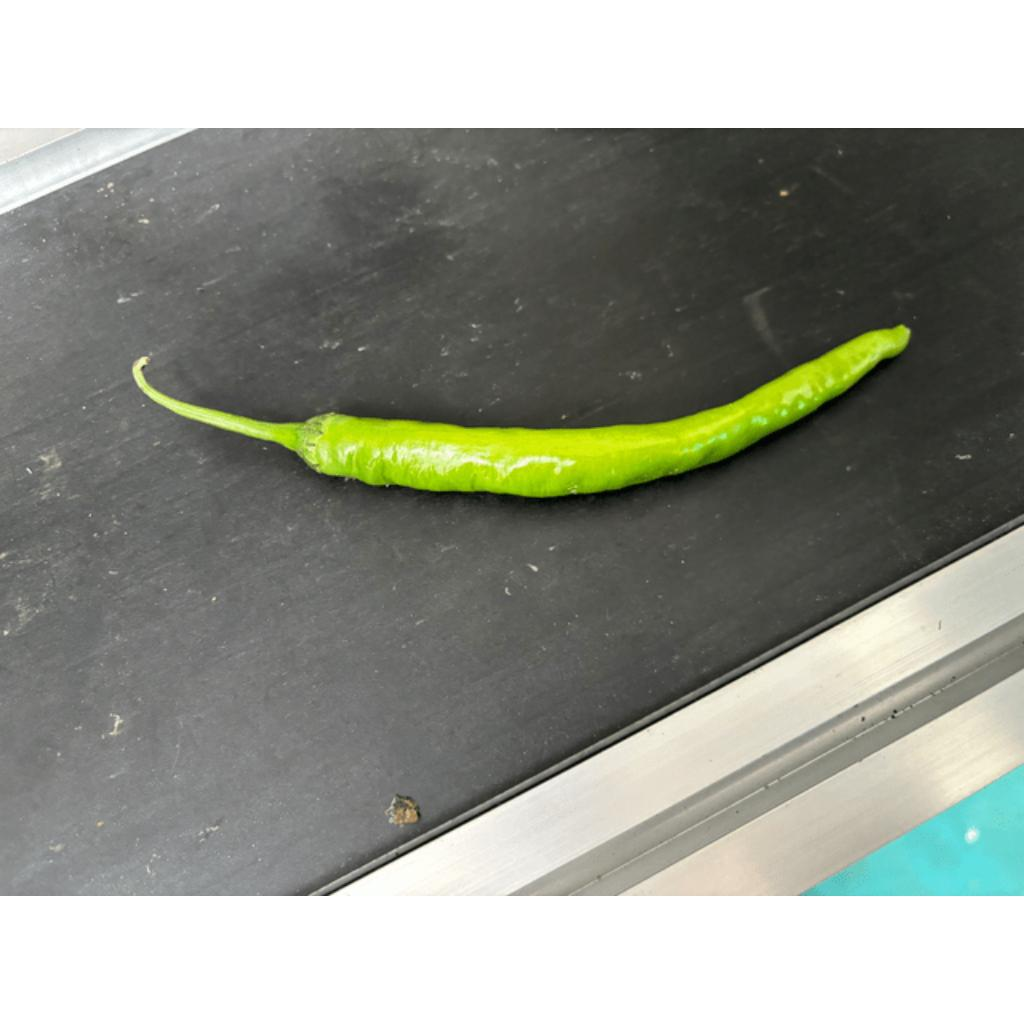chili: (295, 324, 914, 500)
